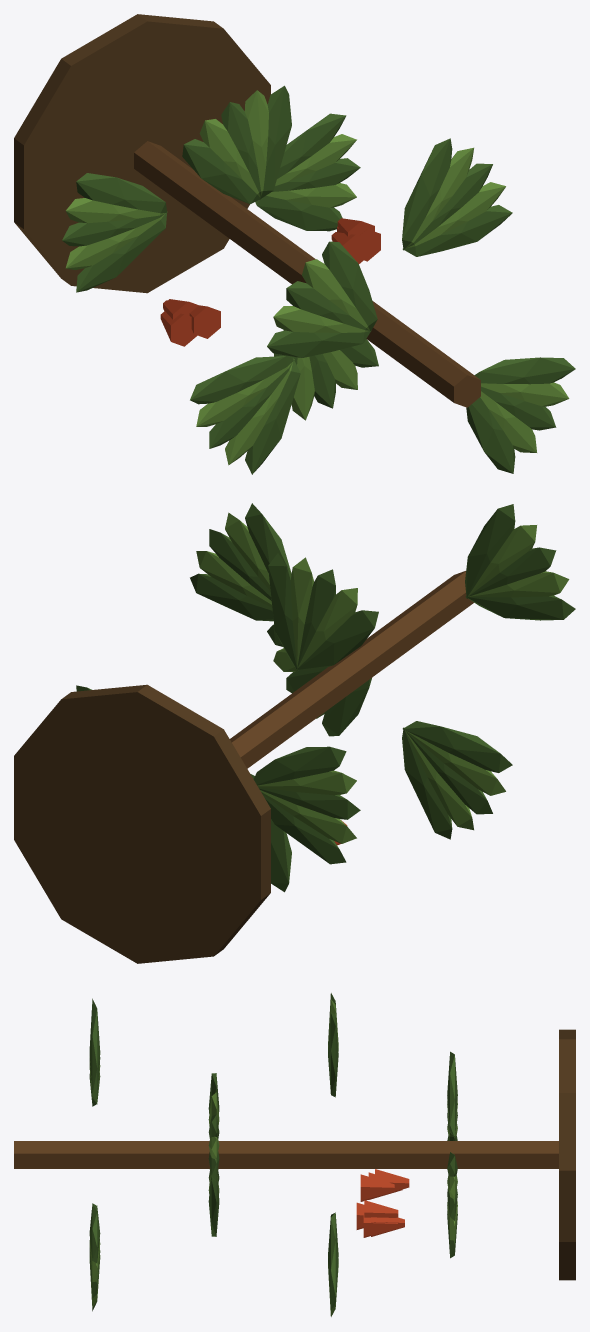
The model's file is 3_partial.obj.
The picture shows the model from 3 angles, top to bottom: view 1: azimuth 30°, elevation 25°; view 2: azimuth 150°, elevation 25°; view 3: azimuth 270°, elevation 25°; orthographic projection. The views are drawn at different scales.
Visible parts, largest first — view 1: hammerstone_3_partial; view 2: hammerstone_3_partial; view 3: hammerstone_3_partial.
Boxes of the visible parts, left/top/right/bottom form: hammerstone_3_partial: left=14, top=14, right=575, bottom=474; hammerstone_3_partial: left=14, top=503, right=575, bottom=963; hammerstone_3_partial: left=14, top=993, right=575, bottom=1316.
Bounding box in the file's own units: 0.3733 × 0.378 × 0.66.
